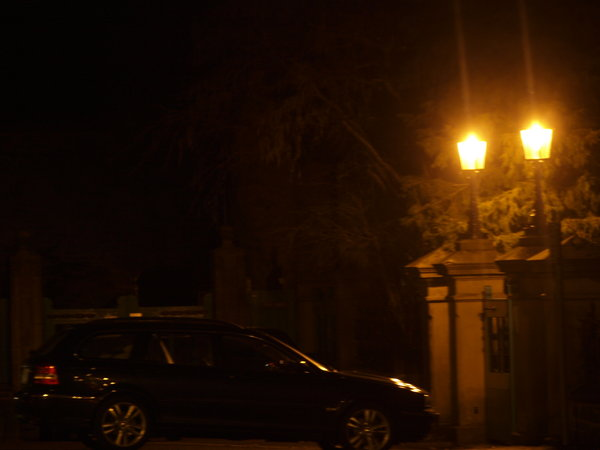car: (11, 311, 445, 449)
